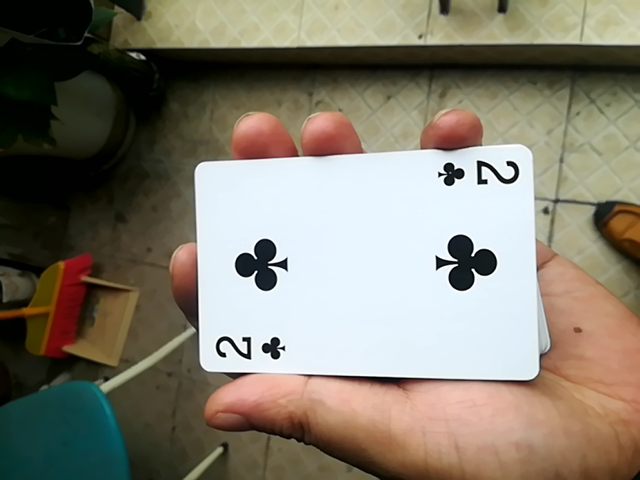mh 2: (186, 141, 540, 393)
